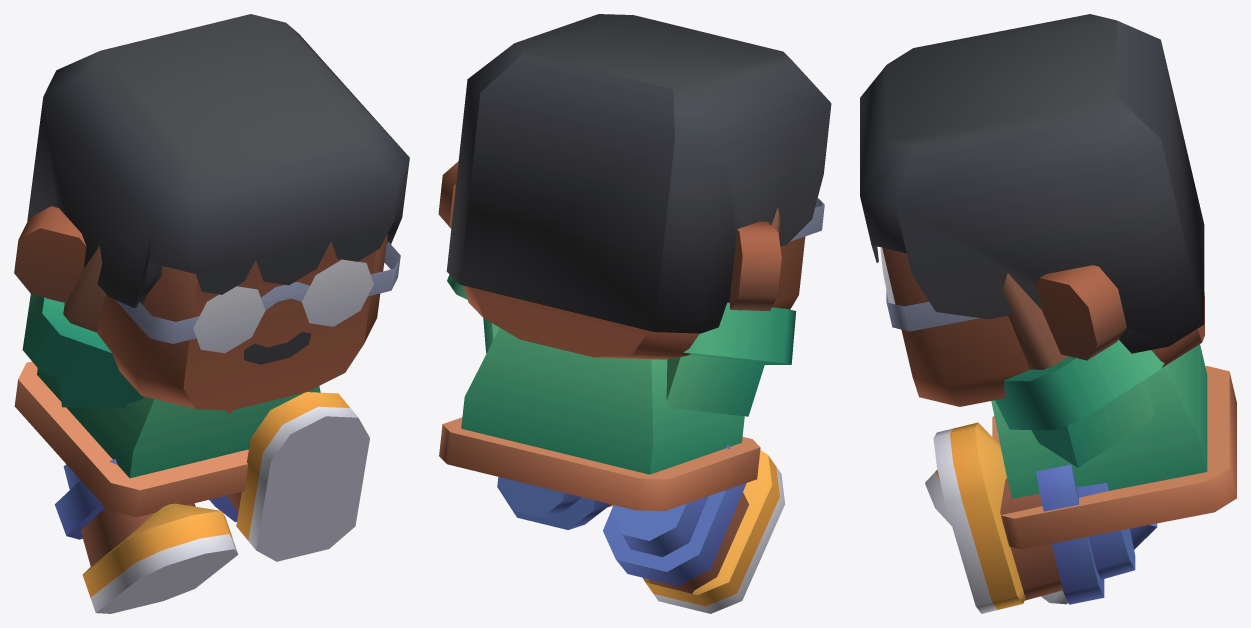
Rendered from walker-male-a-ride.glb.
The picture shows the model from 3 angles, left to right: view 1: azimuth 30°, elevation 25°; view 2: azimuth 150°, elevation 25°; view 3: azimuth 270°, elevation 25°; orthographic projection. The views are drawn at different scales.
Parts seen in each view (by area): view 1: character-male-a-ride; view 2: character-male-a-ride; view 3: character-male-a-ride.
Part boxes in pixels (bbox=[...]): character-male-a-ride: bbox=[14, 14, 409, 613]; character-male-a-ride: bbox=[438, 14, 831, 613]; character-male-a-ride: bbox=[860, 14, 1236, 613].
Size of the model in its own units: 0.4535 by 0.6882 by 0.4165.
1 material, 1 textured.
